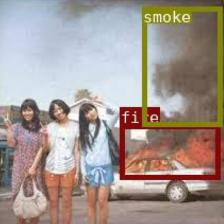fire: (119, 123, 219, 178)
smoke: (141, 6, 222, 126)
